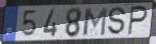4: (42, 8, 60, 39)
5: (21, 9, 38, 38)
8: (64, 6, 83, 39)
M: (82, 6, 109, 37)
P: (126, 5, 150, 37)
S: (107, 7, 127, 37)
